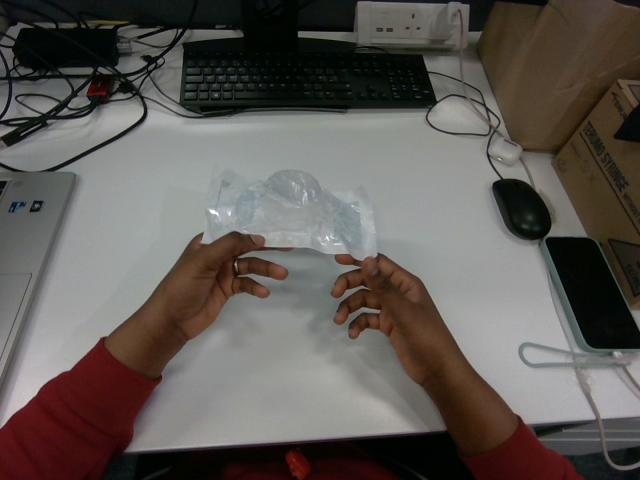gallipot: (202, 169, 376, 259)
